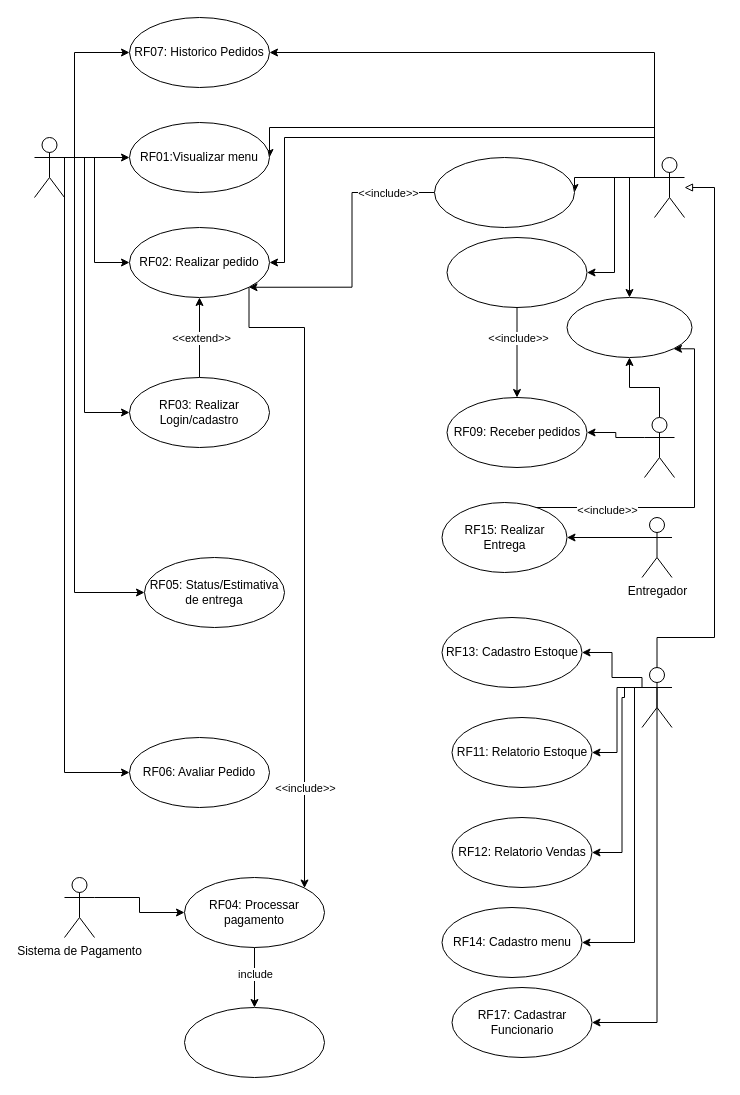
The diagram is 740 pixels wide and 1095 high, and some of its shapes have lost their labels. The centre of each missing label's shape, as x and y in pixels:
"Atendente" goes at [669,187].
"cliente" goes at [49,167].
"Cozinheiro" goes at [659,447].
"Gerente" goes at [656,697].
"RF08: Encaminhar Pedido" goes at [516,272].
"RF10: baixa Estoque" goes at [254,1042].
"RF16: Login Atendente" goes at [504,192].
"RF18:Atualizar Status Pedido" goes at [629,327].
